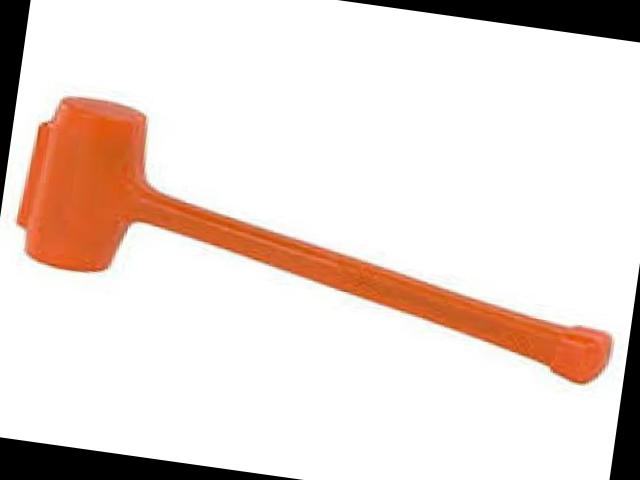hammer: (6, 90, 638, 388)
